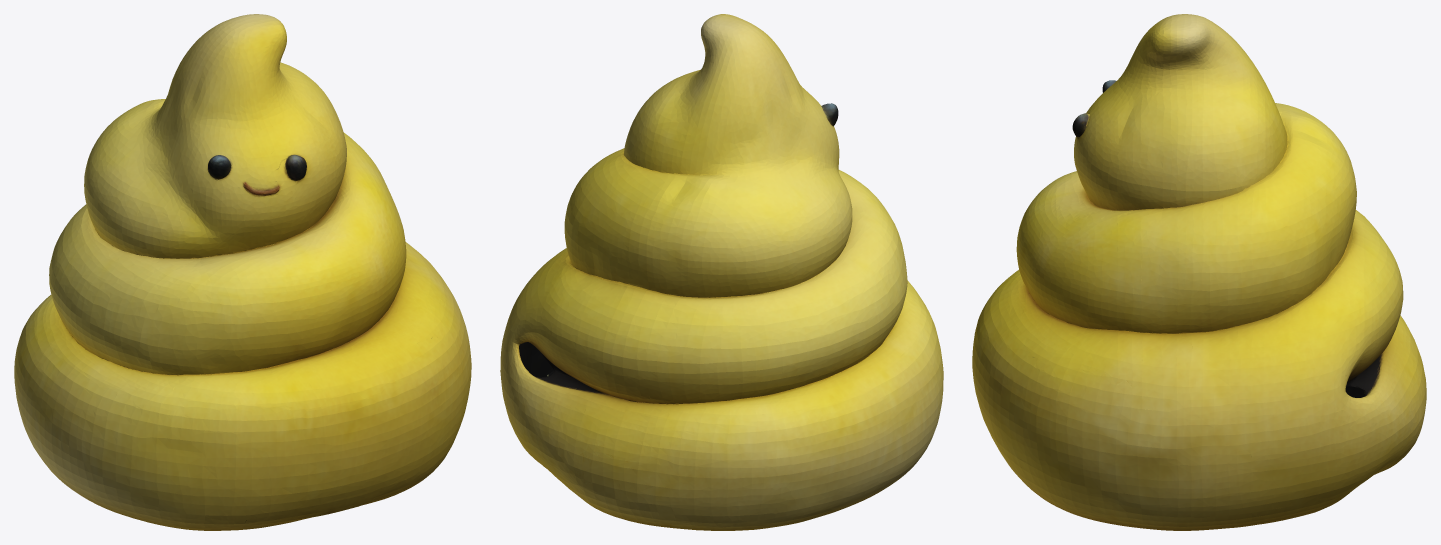
Rendered from poop.glb.
3 views of the same model, side by side, from view 1: azimuth 30°, elevation 25°; view 2: azimuth 150°, elevation 25°; view 3: azimuth 270°, elevation 25° (orthographic). The views are drawn at different scales.
Visible parts, largest first — view 1: geometry_0; view 2: geometry_0; view 3: geometry_0.
Boxes of the visible parts, bbox=[...] form: geometry_0: bbox=[14, 14, 471, 530]; geometry_0: bbox=[500, 14, 943, 530]; geometry_0: bbox=[972, 14, 1426, 530].
Size of the model in its own units: 0.0678 by 0.073 by 0.0682.
Materials: 1 (1 with a texture image).
